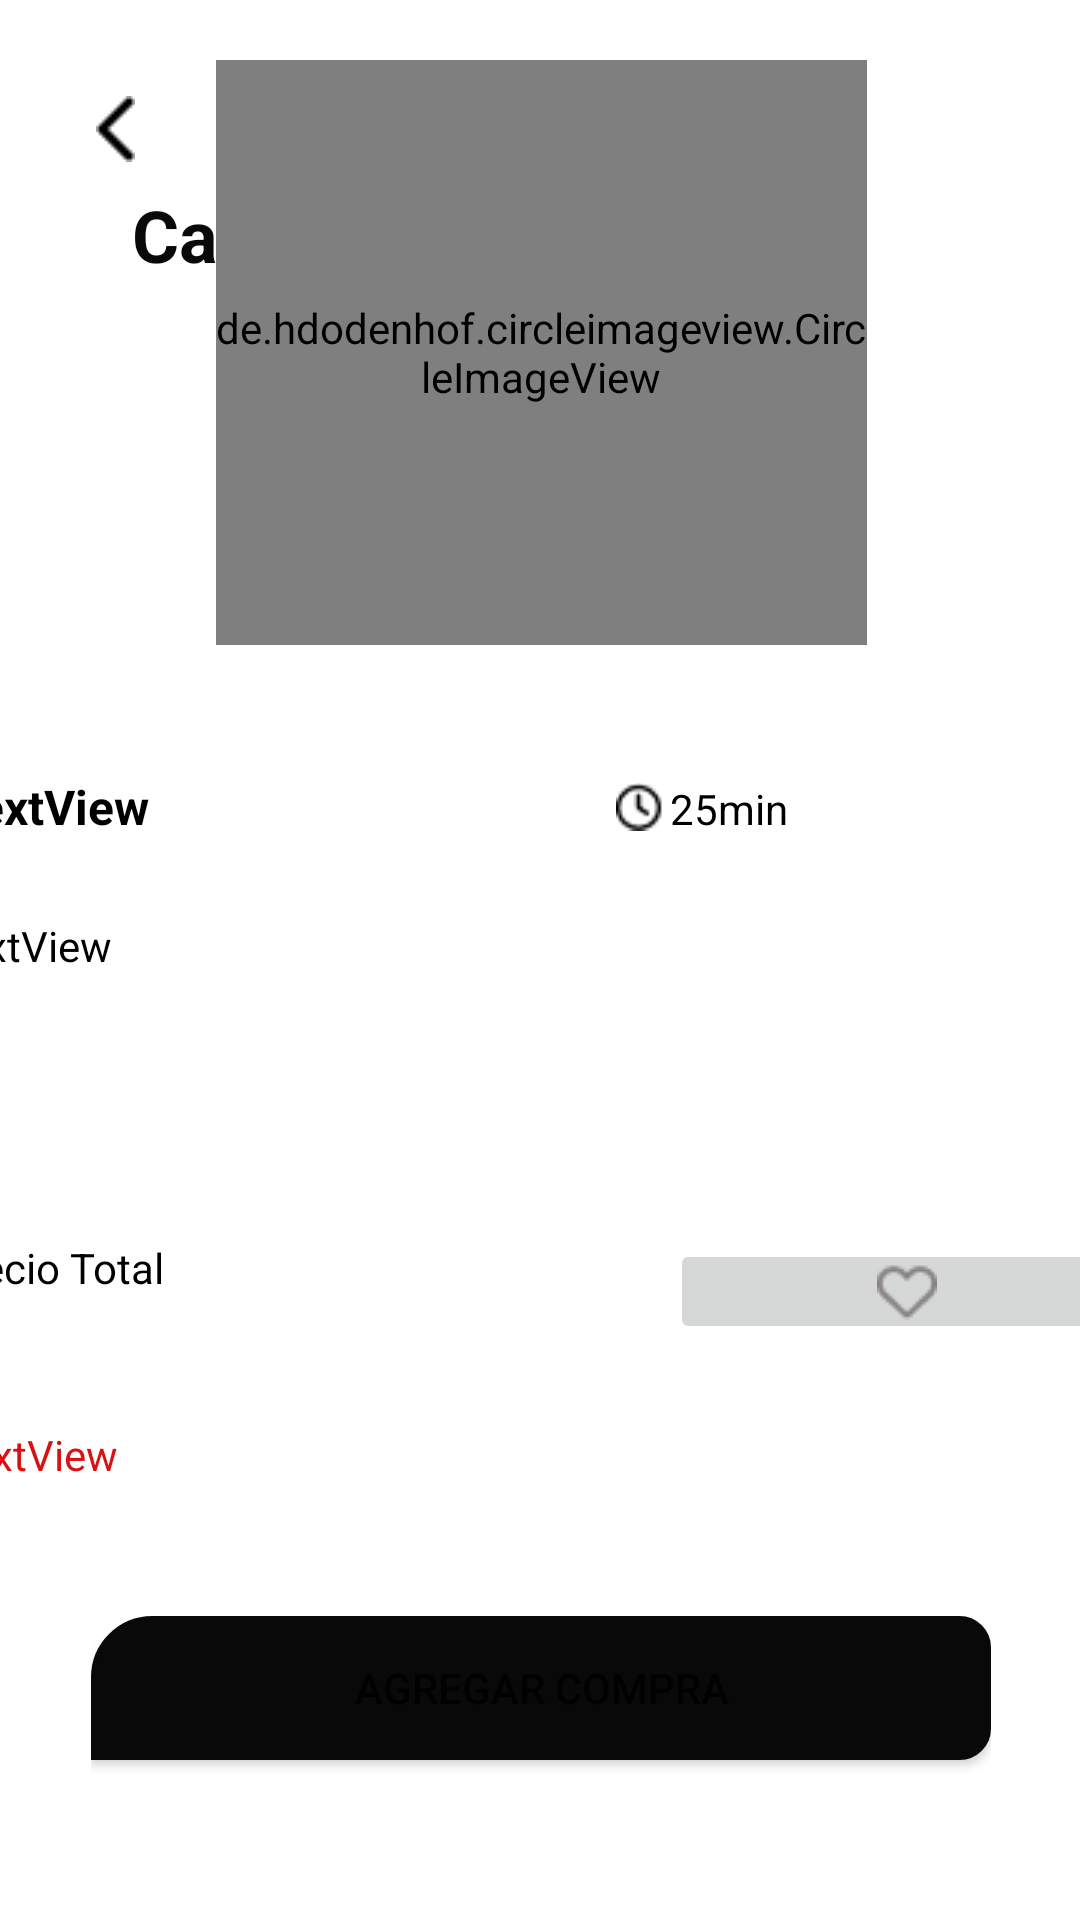

Where to tap for icons on this 1080px x 1920px app screen, as point (x, y):
clock: point (639, 807)
regre: point (115, 129)
